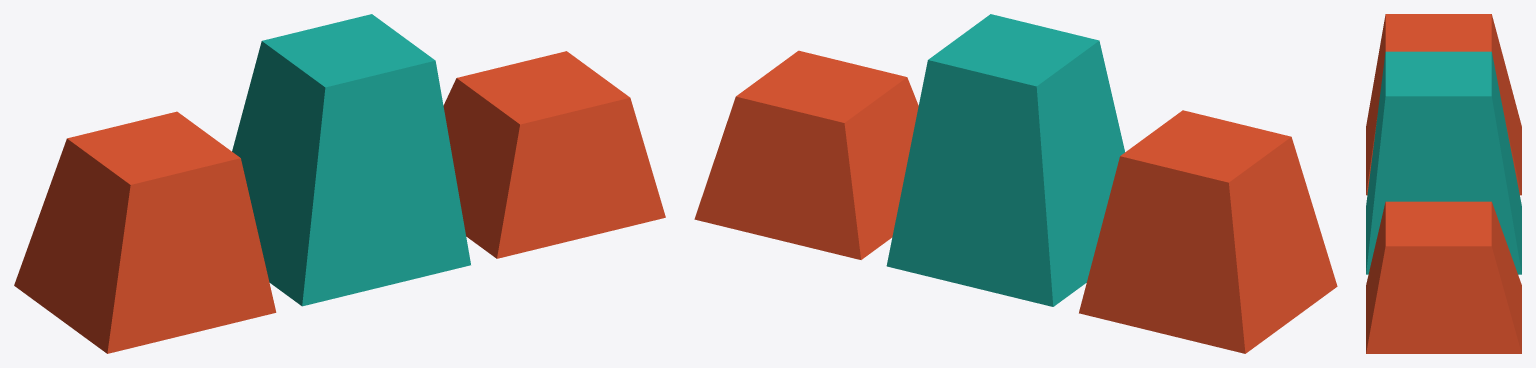
The model's file is Color study.glb.
3 renders of one model, left to right at view 1: azimuth 30°, elevation 25°; view 2: azimuth 150°, elevation 25°; view 3: azimuth 270°, elevation 25°, orthographic. The views are drawn at different scales.
Bounding box in the file's own units: 3.04 × 1.05 × 0.88.
